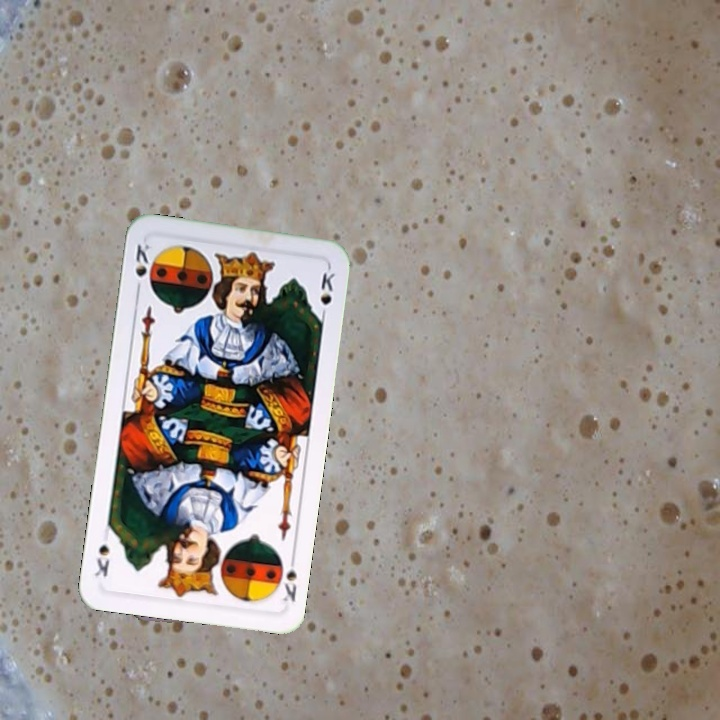SK: (131, 240, 155, 297), (279, 550, 300, 604)
